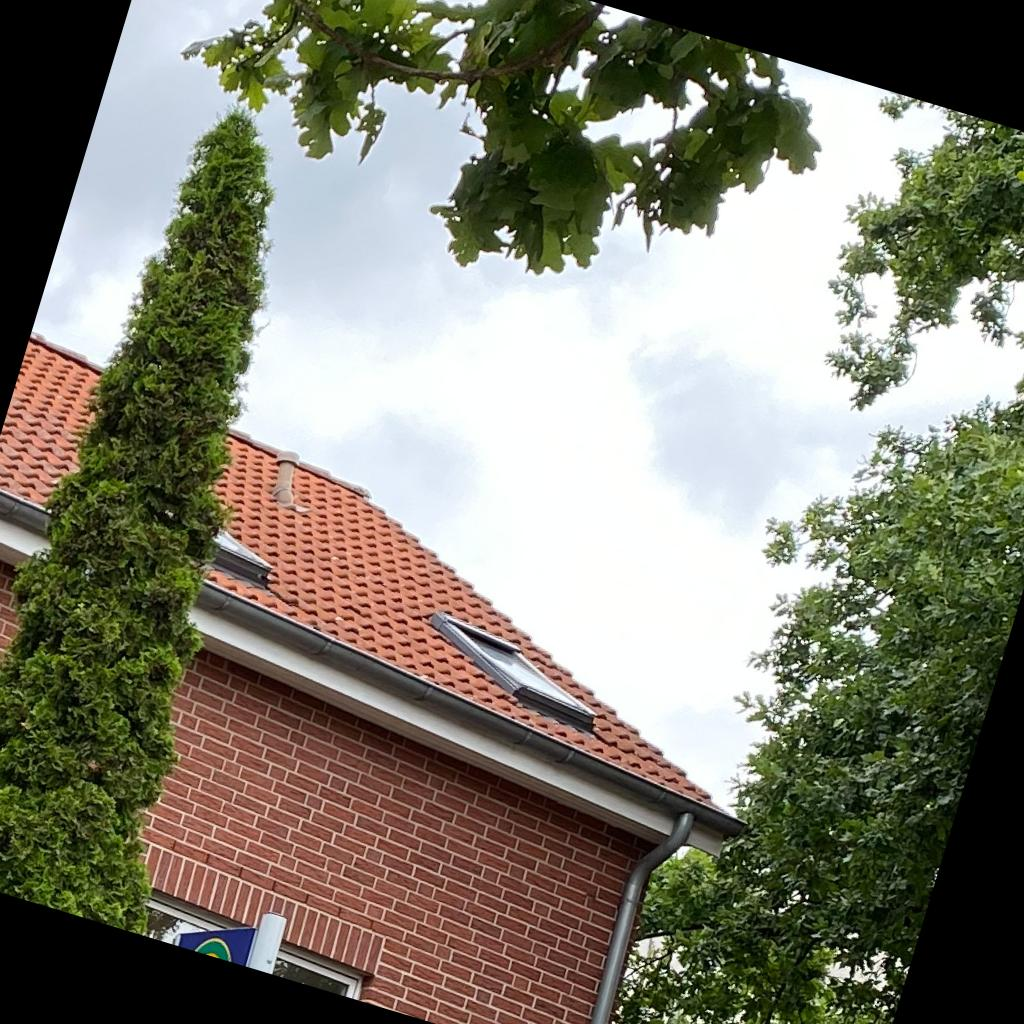tree: (723, 93, 1024, 1024), (1, 103, 277, 937), (182, 1, 822, 275), (613, 847, 836, 1024)
